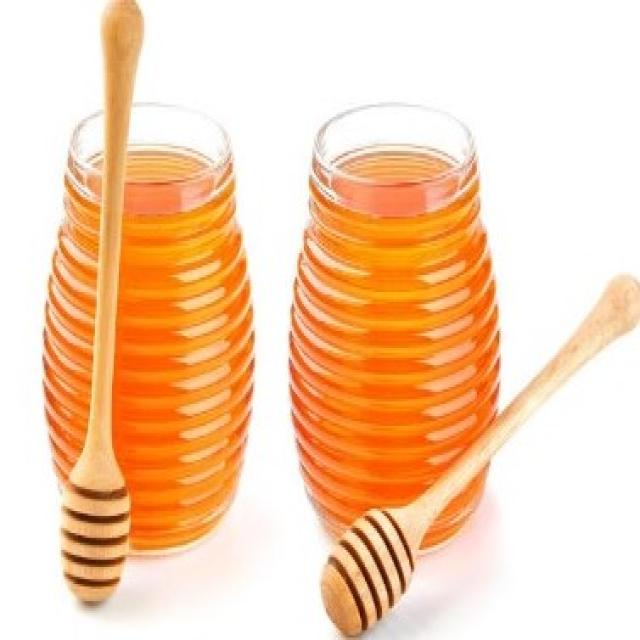electronic: (287, 111, 507, 558), (46, 106, 255, 563)
